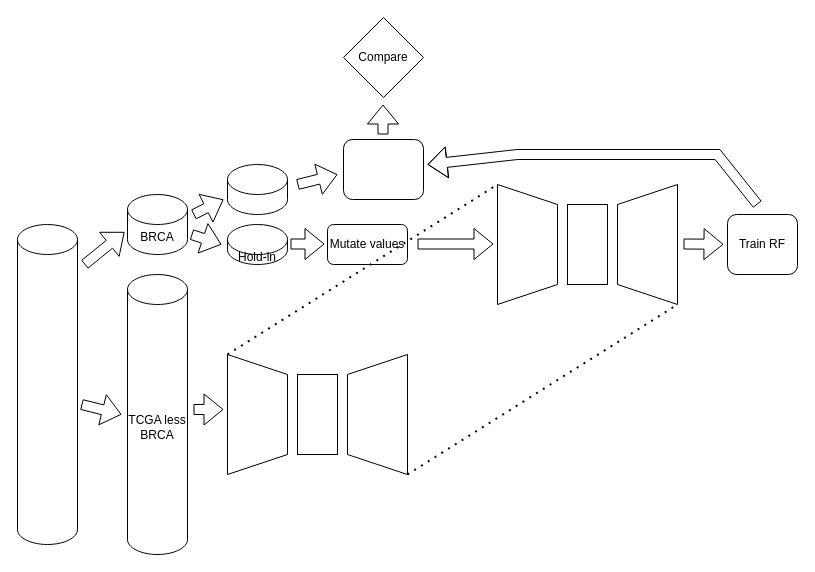
This 815x572 diagram has some shape labels left out. Here are the shapes that lost their labels. From the top down, the centre of each, then its label:
the point at 257,189: Hold-out
the point at 383,169: Predict on Hold-out
the point at 47,384: TCGA
